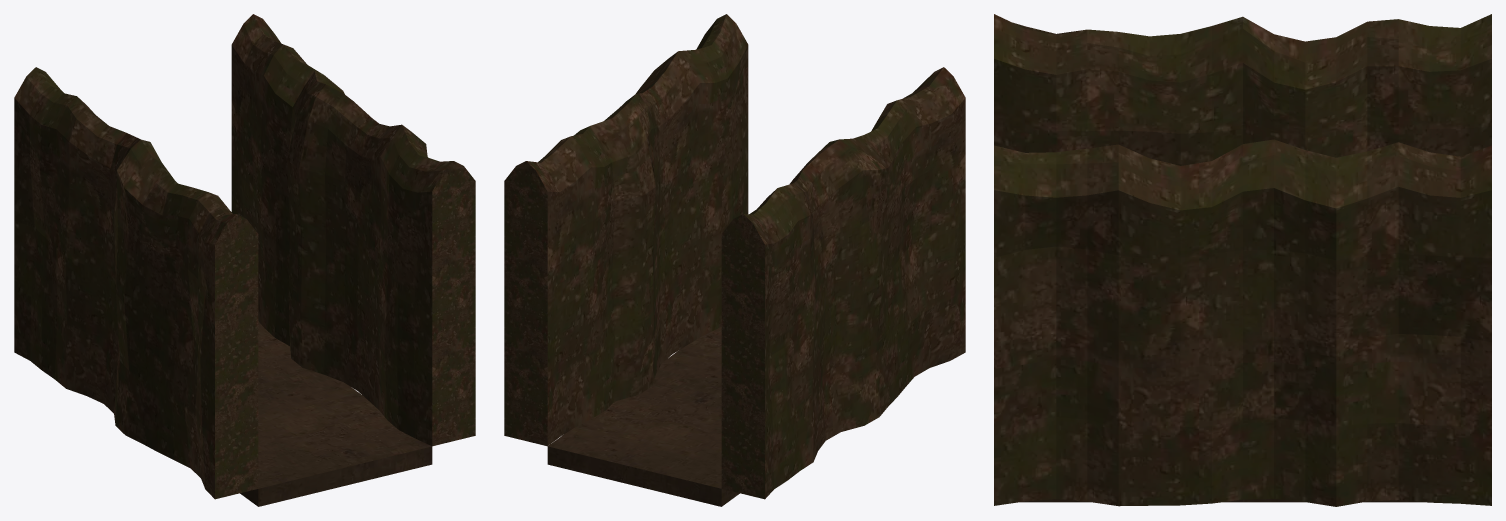
The model's file is cave_corridor_01_dirt.glb.
The picture shows the model from 3 angles, left to right: view 1: azimuth 30°, elevation 25°; view 2: azimuth 150°, elevation 25°; view 3: azimuth 270°, elevation 25°; orthographic projection. The views are drawn at different scales.
Parts seen in each view (by area): view 1: cave_corridor_01_dirt; view 2: cave_corridor_01_dirt; view 3: cave_corridor_01_dirt.
Part boxes in pixels (left/top/right/bottom): cave_corridor_01_dirt: left=14, top=14, right=475, bottom=506; cave_corridor_01_dirt: left=504, top=14, right=965, bottom=506; cave_corridor_01_dirt: left=994, top=14, right=1491, bottom=506.
Bounding box in the file's own units: 3.09 × 3.28 × 4.
Materials: 2 (2 with a texture image).
